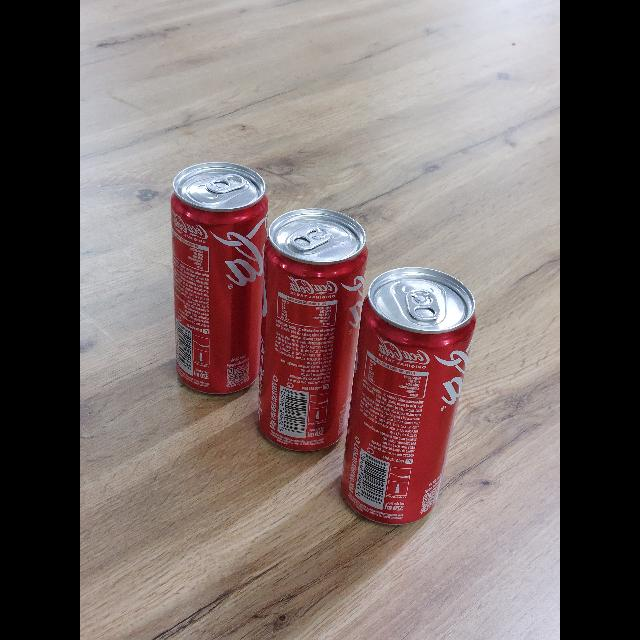coca_cola: (341, 267, 477, 528), (258, 209, 368, 455), (170, 161, 269, 398)
